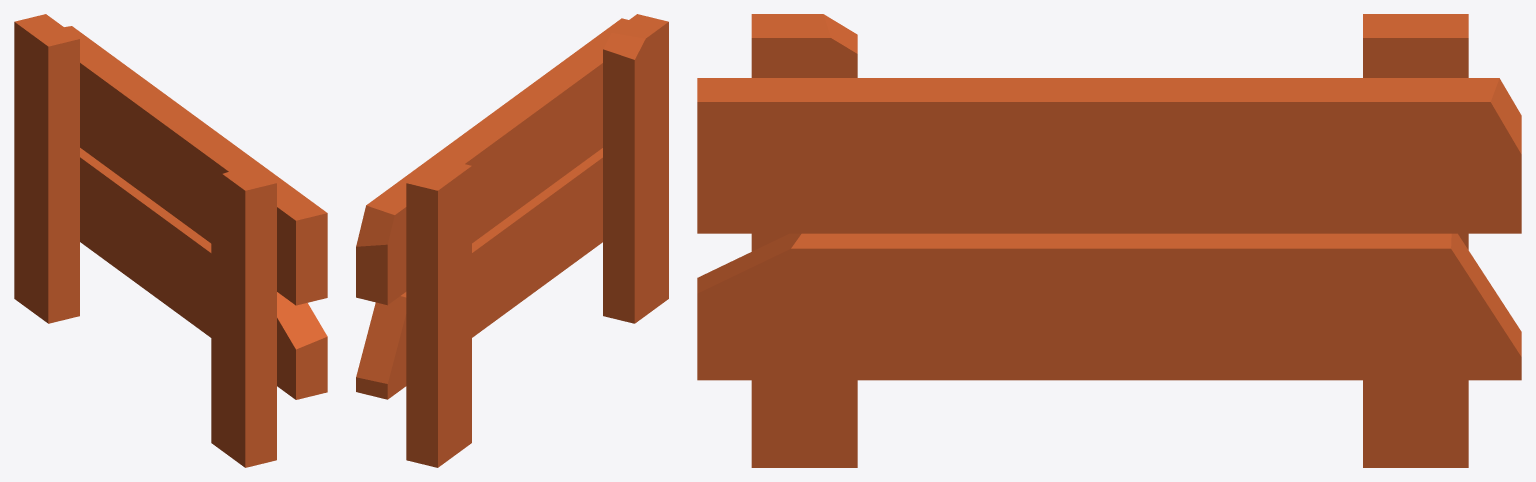
File: fences03.glb
3 views of the same model, side by side, from view 1: azimuth 30°, elevation 25°; view 2: azimuth 150°, elevation 25°; view 3: azimuth 270°, elevation 25° (orthographic). The views are drawn at different scales.
Parts seen in each view (by area): view 1: Cube; view 2: Cube; view 3: Cube.
Boxes of the visible parts, x1=… form: Cube: x1=14, y1=14, x2=327, y2=467; Cube: x1=356, y1=14, x2=668, y2=467; Cube: x1=697, y1=14, x2=1521, y2=467.
Size of the model in its own units: 0.3665 by 1.5 by 2.61.
